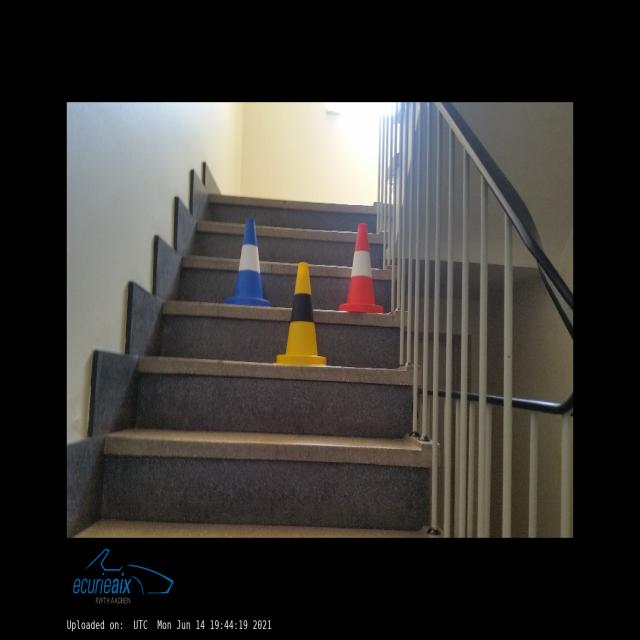blue_cone: (227, 218, 270, 306)
orange_cone: (339, 223, 383, 313)
yellow_cone: (273, 263, 327, 365)
